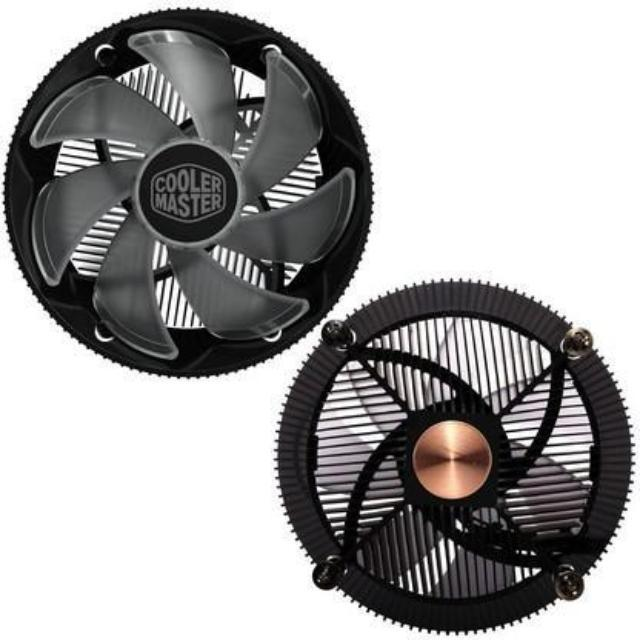CPU_Fan: (7, 0, 638, 629)
